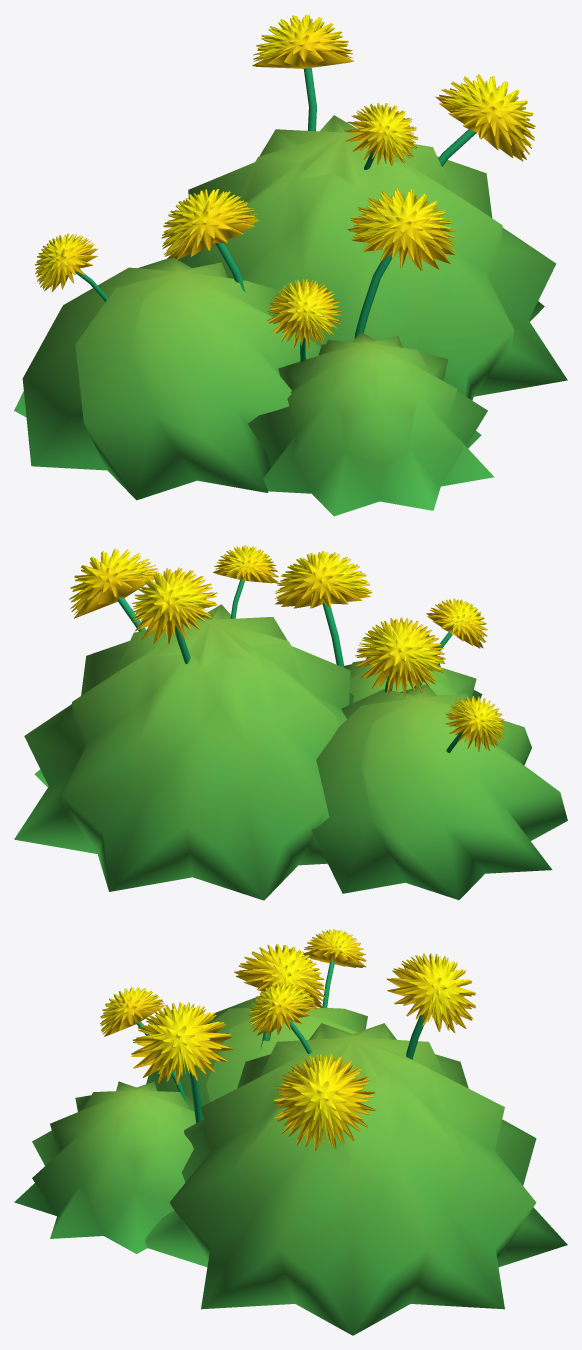
The model's file is flowers.FBX.
3 views of the same model, one above another, from view 1: azimuth 30°, elevation 25°; view 2: azimuth 150°, elevation 25°; view 3: azimuth 270°, elevation 25° (orthographic). The views are drawn at different scales.
Parts seen in each view (by area): view 1: Sphere001, Sphere006, Sphere008, Sphere003, Sphere010, Sphere007, Sphere009, Sphere011, Line001; view 2: Sphere001, Sphere003, Sphere010, Sphere006, Sphere008, Sphere011, Sphere007, Sphere009, Line001; view 3: Sphere001, Sphere008, Sphere006, Sphere010, Sphere003, Sphere009, Sphere007, Sphere011.
Part boxes in pixels (x1,y1,x2,y2): Sphere001: (14,115,567,516); Sphere006: (347,188,456,270); Sphere008: (435,74,535,161); Sphere003: (161,189,259,259); Sphere010: (252,14,354,68); Sphere007: (267,279,342,348); Sphere009: (344,102,418,165); Sphere011: (35,233,98,291); Line001: (354,253,392,338); Sphere001: (14,604,567,900); Sphere003: (355,617,445,696); Sphere010: (131,567,217,644); Sphere006: (274,551,372,608); Sphere008: (69,548,161,618); Sphere011: (445,696,504,751); Sphere007: (426,598,487,648); Sphere009: (213,545,278,583); Line001: (322,601,344,667); Sphere001: (14,995,567,1335); Sphere008: (273,1054,375,1150); Sphere006: (131,1002,233,1084); Sphere010: (386,953,475,1032); Sphere003: (234,944,325,1009); Sphere009: (249,982,315,1036); Sphere007: (100,987,165,1036); Sphere011: (303,929,366,967).
Size of the model in its own units: 68.71 by 37.33 by 64.32.
